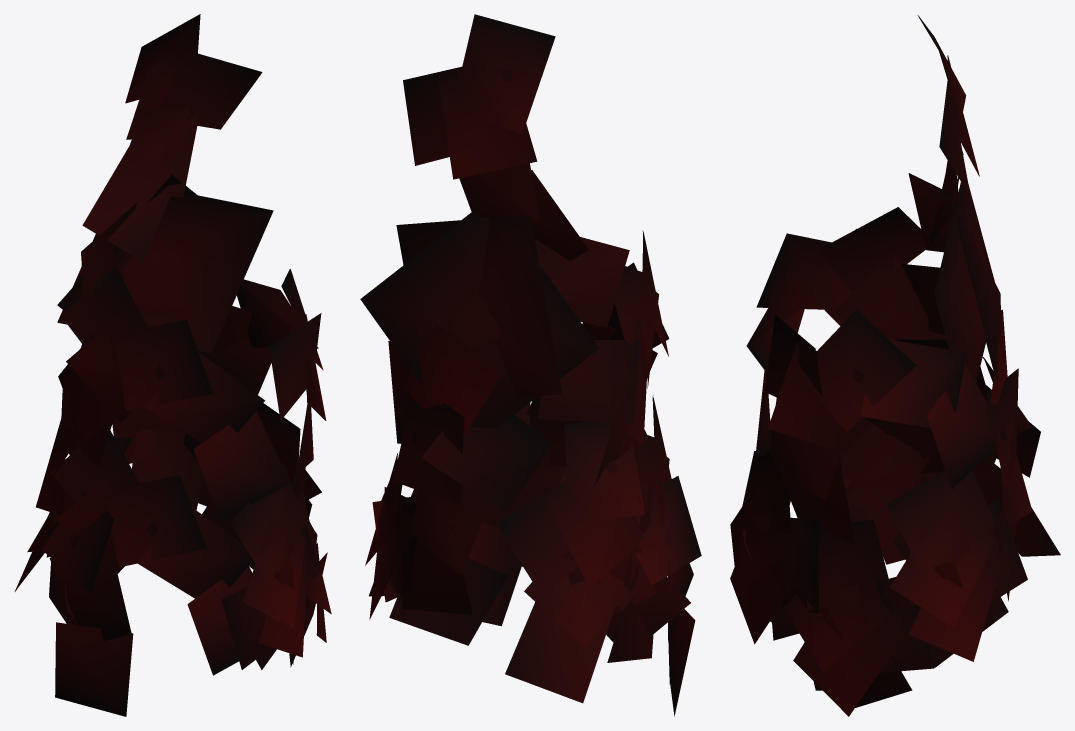
The model's file is TGV_Birch_Tree_01A_Ivy.fbx.
3 views of the same model, side by side, from view 1: azimuth 30°, elevation 25°; view 2: azimuth 150°, elevation 25°; view 3: azimuth 270°, elevation 25° (orthographic). The views are drawn at different scales.
Parts seen in each view (by area): view 1: TGV_Birch_Tree_01A_Ivy_LOD0; view 2: TGV_Birch_Tree_01A_Ivy_LOD0; view 3: TGV_Birch_Tree_01A_Ivy_LOD0.
Part boxes in pixels (x1,y1,x2,y2): TGV_Birch_Tree_01A_Ivy_LOD0: (14,14,331,716); TGV_Birch_Tree_01A_Ivy_LOD0: (360,14,701,716); TGV_Birch_Tree_01A_Ivy_LOD0: (730,15,1060,716).
Size of what is drawn, in the model's own units: 115 by 252 by 116.
